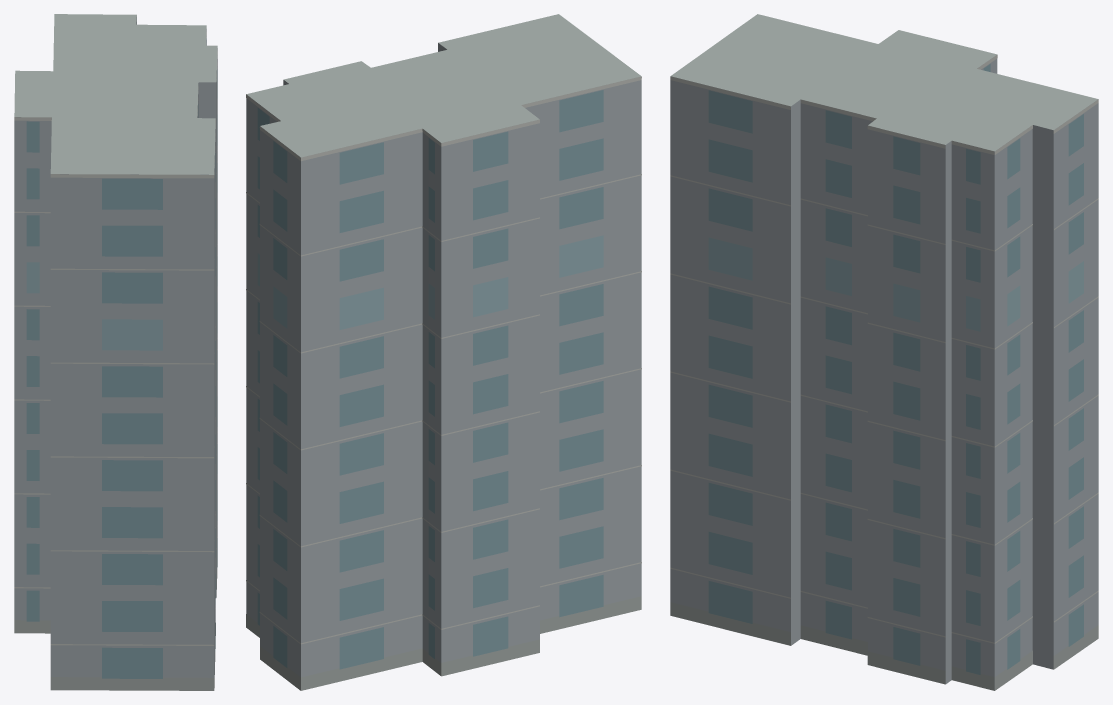
The model's file is survey-upis-32725068.glb.
3 renders of one model, left to right at view 1: azimuth 30°, elevation 25°; view 2: azimuth 150°, elevation 25°; view 3: azimuth 270°, elevation 25°, orthographic. The views are drawn at different scales.
Visible parts, largest first — view 1: survey-upis-32725068.tmp; view 2: survey-upis-32725068.tmp; view 3: survey-upis-32725068.tmp.
Boxes of the visible parts, x1=… form: survey-upis-32725068.tmp: x1=14, y1=14, x2=217, y2=690; survey-upis-32725068.tmp: x1=246, y1=14, x2=641, y2=690; survey-upis-32725068.tmp: x1=670, y1=14, x2=1098, y2=690.
Size of the model in its own units: 19.03 by 34.8 by 25.05.
